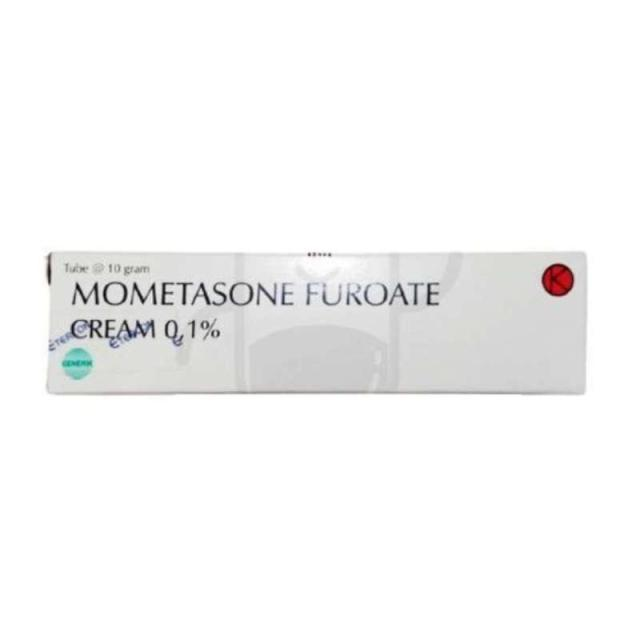drug-name: (64, 278, 453, 309)
